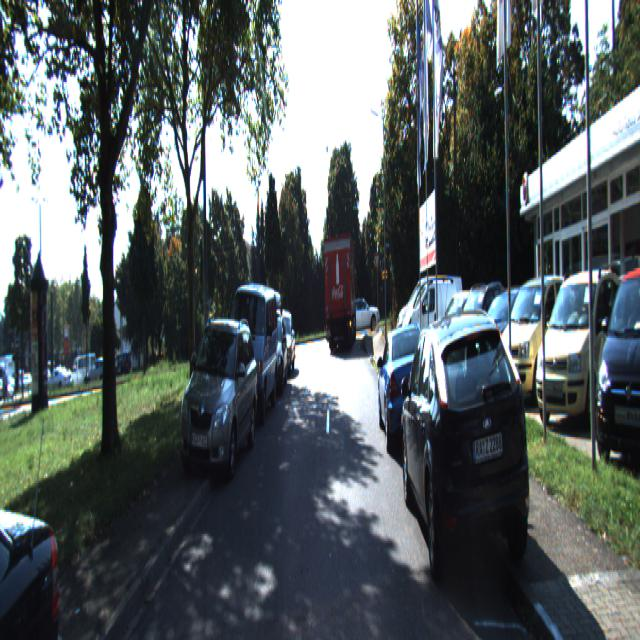Car: (401, 290, 541, 597), (0, 376, 73, 638), (534, 265, 631, 431), (175, 309, 259, 486), (494, 266, 582, 406), (594, 249, 640, 466), (464, 283, 546, 391), (222, 279, 280, 429), (376, 318, 438, 458), (448, 279, 512, 370), (400, 279, 457, 359), (322, 230, 357, 352), (255, 310, 289, 404), (266, 310, 296, 381), (344, 294, 380, 337)
